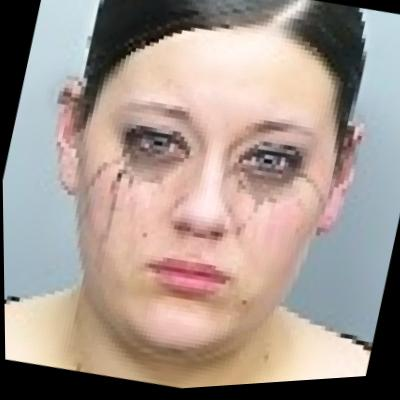sad: (34, 4, 376, 397)
